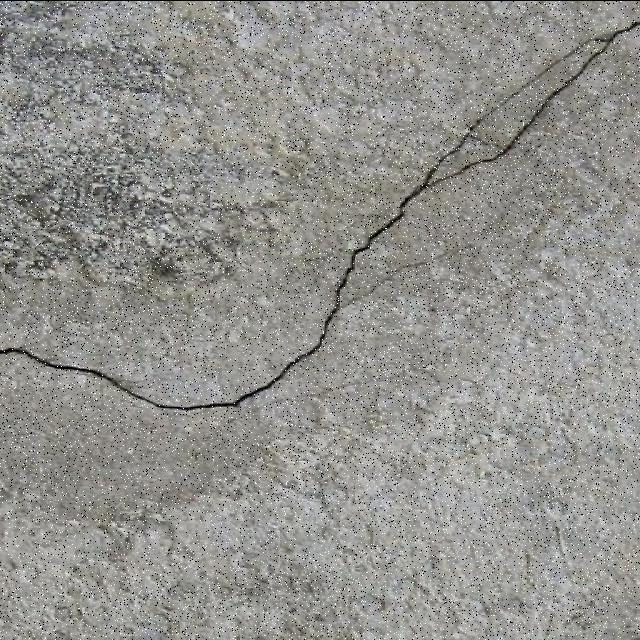Crack: (1, 17, 638, 411)
